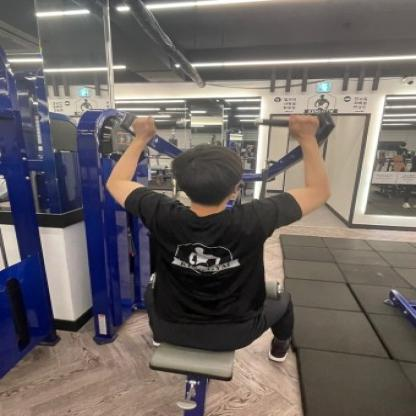Lat Pull Down: (41, 78, 352, 416)
